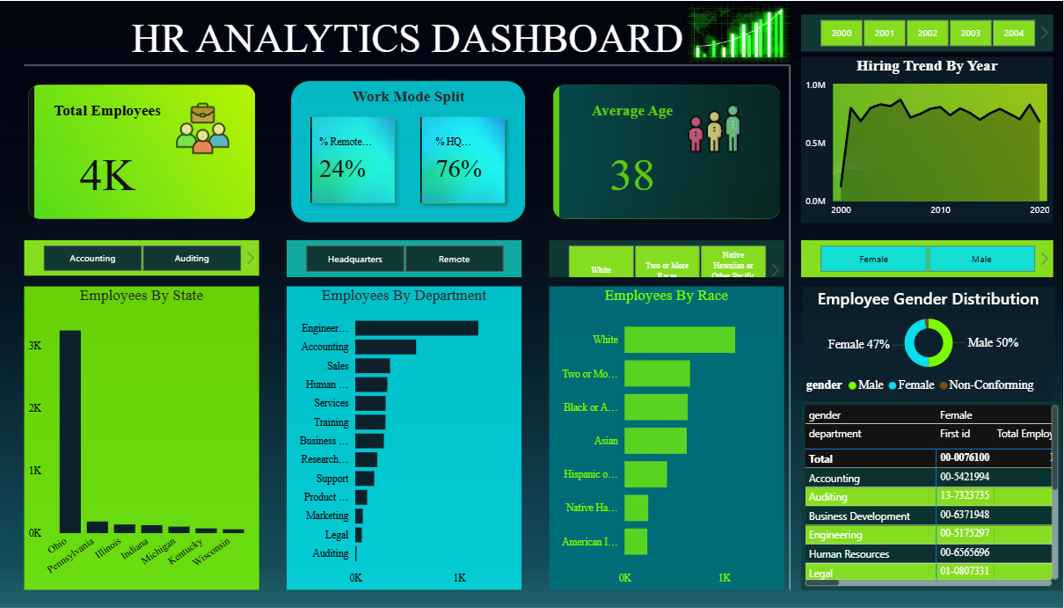

The page's visual inventory and layout, read from the dashboard file:
{"tool":"powerbi","page":{"name":"Page 1","canvas":[1400,800],"ordinal":0},"visuals":[{"type":"lineChart","title":"Hiring Trend By Year","fields":{"Category":["project_hr_analytics HR.Hire Year"],"Y":["Sum(project_hr_analytics HR.Total Hires)"]},"box":[1055.9,74.7,331.7,218.8],"z":0},{"type":"donutChart","title":"Employee Gender Distribution","fields":{"Category":["project_hr_analytics HR.gender"],"Y":["CountNonNull(project_hr_analytics HR.id)"]},"box":[1057.6,376.9,331.7,151.1],"z":1000},{"type":"cardVisual","title":"Work Mode Split","fields":{"Data":["project_hr_analytics HR.% Remote Workers","project_hr_analytics HR.% HQ Workers"]},"box":[383.8,105.9,309.1,187.6],"z":2000},{"type":"columnChart","title":"Employees By State","fields":{"Category":["project_hr_analytics HR.location_state"],"Y":["CountNonNull(project_hr_analytics HR.id)"]},"box":[33,376.9,309.1,399.4],"z":3000},{"type":"clusteredBarChart","title":"Employees By Department","fields":{"Category":["project_hr_analytics HR.department"],"Y":["CountNonNull(project_hr_analytics HR.id)"]},"box":[378.6,376.9,309.1,399.4],"z":4000},{"type":"barChart","title":"Employees By Race","fields":{"Category":["project_hr_analytics HR.race"],"Y":["CountNonNull(project_hr_analytics HR.id)"]},"box":[724.2,376.9,309.1,399.4],"z":5000},{"type":"shape","title":"HR ANALYTICS DASHBOARD","box":[33,20.8,1009,66],"z":6000},{"type":"cardVisual","title":"Total Employees","fields":{"Data":["project_hr_analytics HR.Total Employees"]},"box":[33,105.9,309.1,187.6],"z":7000},{"type":"shape","box":[880.5,86.8,321.3,689.5],"z":8000},{"type":"cardVisual","title":"Total Employees","fields":{"Data":["project_hr_analytics HR.Average Age"]},"box":[724.2,105.9,309.1,187.6],"z":9000},{"type":"slicer","fields":{"Values":["project_hr_analytics HR.gender"]},"box":[1055.9,316.1,331.7,48.6],"z":10000},{"type":"slicer","fields":{"Values":["project_hr_analytics HR.location"]},"box":[378.6,316.1,309.1,48.6],"z":11000},{"type":"slicer","fields":{"Values":["project_hr_analytics HR.department"]},"box":[33,316.1,309.1,46.9],"z":12000},{"type":"slicer","fields":{"Values":["project_hr_analytics HR.Hire Year"]},"box":[1055.9,19.1,331.7,48.6],"z":13000},{"type":"slicer","fields":{"Values":["project_hr_analytics HR.race"]},"box":[724.2,316.1,309.1,48.6],"z":14000},{"type":"image","box":[776.3,0,396,86.8],"z":15000},{"type":"pivotTable","fields":{"Rows":["project_hr_analytics HR.department"],"Columns":["project_hr_analytics HR.gender","project_hr_analytics HR.location"],"Values":["Min(project_hr_analytics HR.id)","project_hr_analytics HR.Total Employees","project_hr_analytics HR.Average Age"]},"box":[1055.9,527.9,343.9,248.3],"z":15001}]}

Visuals, with their boxes in screenshot pixels (x1, y1, x2, y2), scaled from the page's 1400x800 canvas onto the 1064x608 screenshot:
"Hiring Trend By Year" lineChart: rect(802, 57, 1055, 223)
"Employee Gender Distribution" donutChart: rect(804, 286, 1056, 401)
"Work Mode Split" cardVisual: rect(292, 80, 527, 223)
"Employees By State" columnChart: rect(25, 286, 260, 590)
"Employees By Department" clusteredBarChart: rect(288, 286, 523, 590)
"Employees By Race" barChart: rect(550, 286, 785, 590)
"HR ANALYTICS DASHBOARD" shape: rect(25, 16, 792, 66)
"Total Employees" cardVisual: rect(25, 80, 260, 223)
shape: rect(669, 66, 913, 590)
"Total Employees" cardVisual: rect(550, 80, 785, 223)
slicer - project_hr_analytics HR.gender: rect(802, 240, 1055, 277)
slicer - project_hr_analytics HR.location: rect(288, 240, 523, 277)
slicer - project_hr_analytics HR.department: rect(25, 240, 260, 276)
slicer - project_hr_analytics HR.Hire Year: rect(802, 15, 1055, 51)
slicer - project_hr_analytics HR.race: rect(550, 240, 785, 277)
image: rect(590, 0, 891, 66)
pivotTable - project_hr_analytics HR.department x project_hr_analytics HR.gender: rect(802, 401, 1063, 590)
